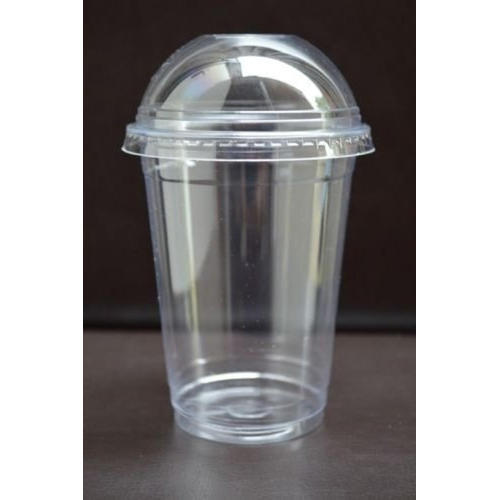plastic_bottle: (117, 25, 381, 452)
